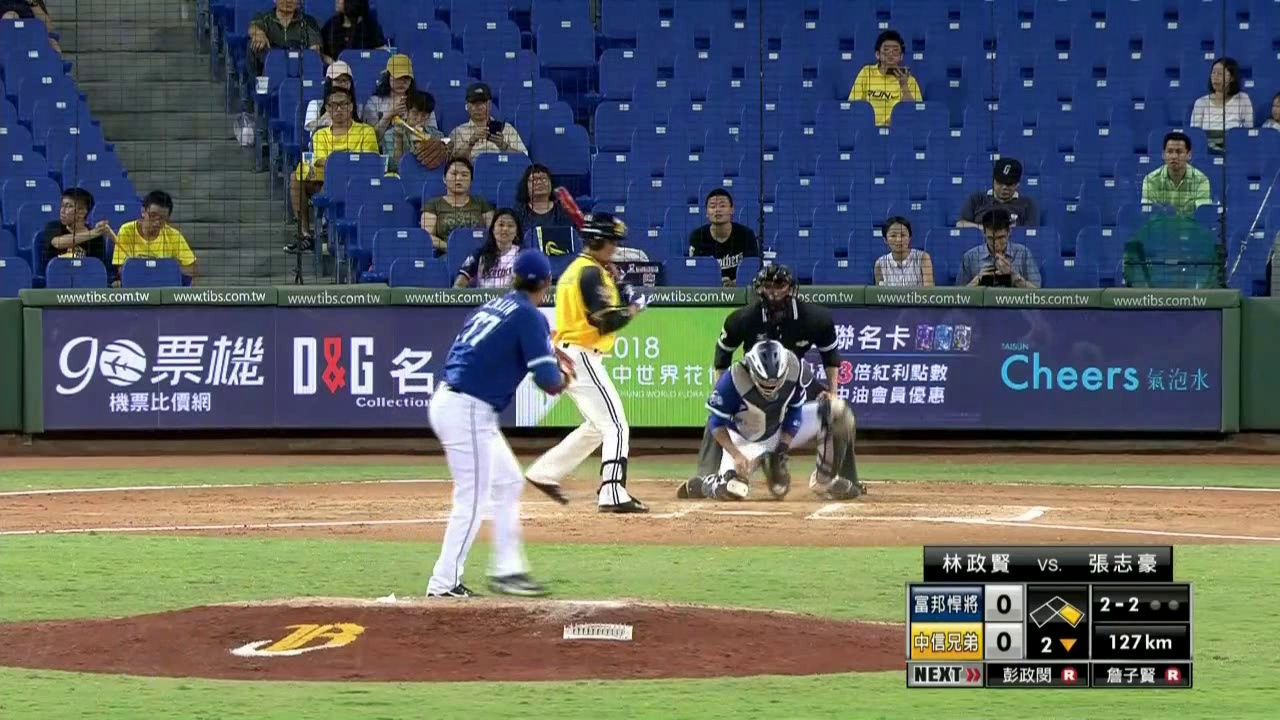base: (1029, 590, 1085, 631)
bat: (551, 181, 636, 293)
out: (1144, 587, 1186, 621)
score1: (987, 588, 1022, 619)
score2: (987, 626, 1023, 661)
session: (1028, 633, 1082, 659)
speed: (1095, 631, 1184, 658)
strikeball: (1093, 588, 1144, 619)
